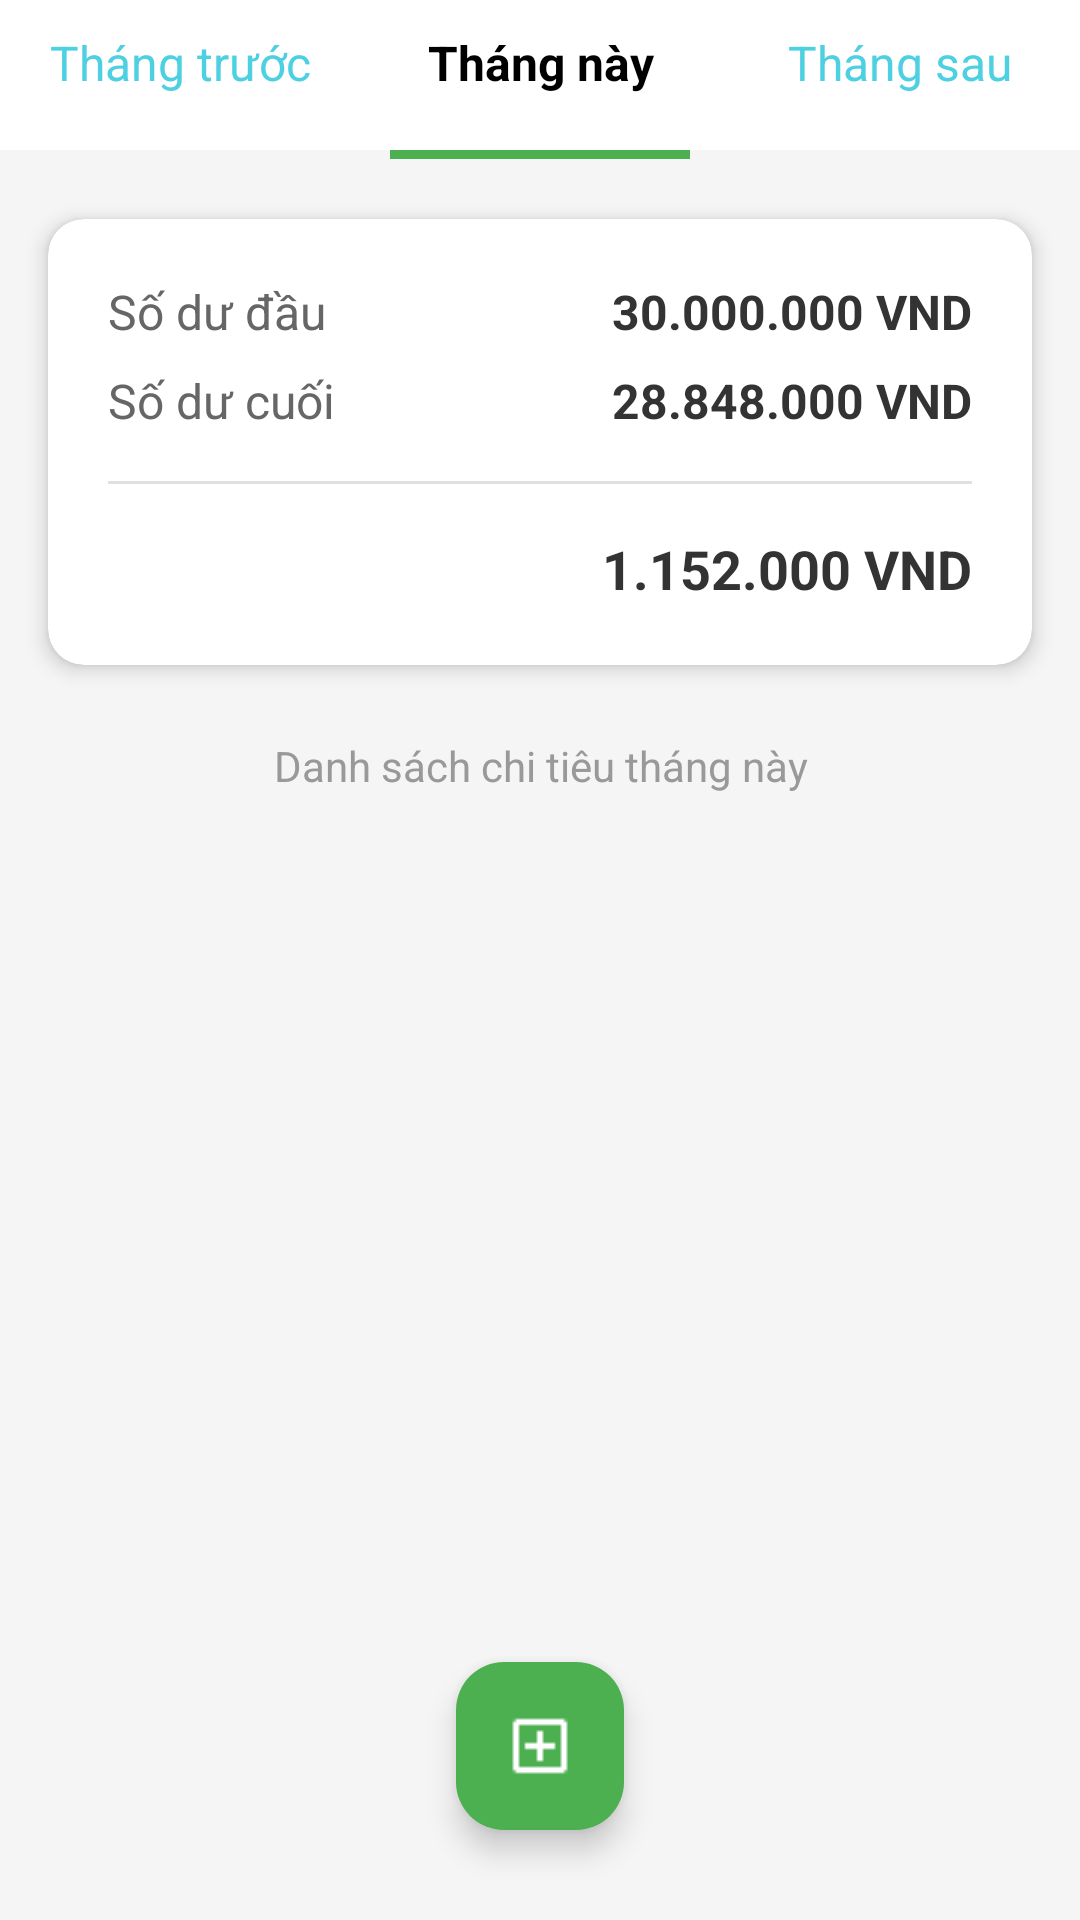

Where to tap for icons on this 1080x1920 app screen, as point (x, y):
add: point (540, 1746)
